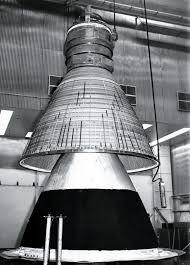thruster: (18, 67, 163, 177)
